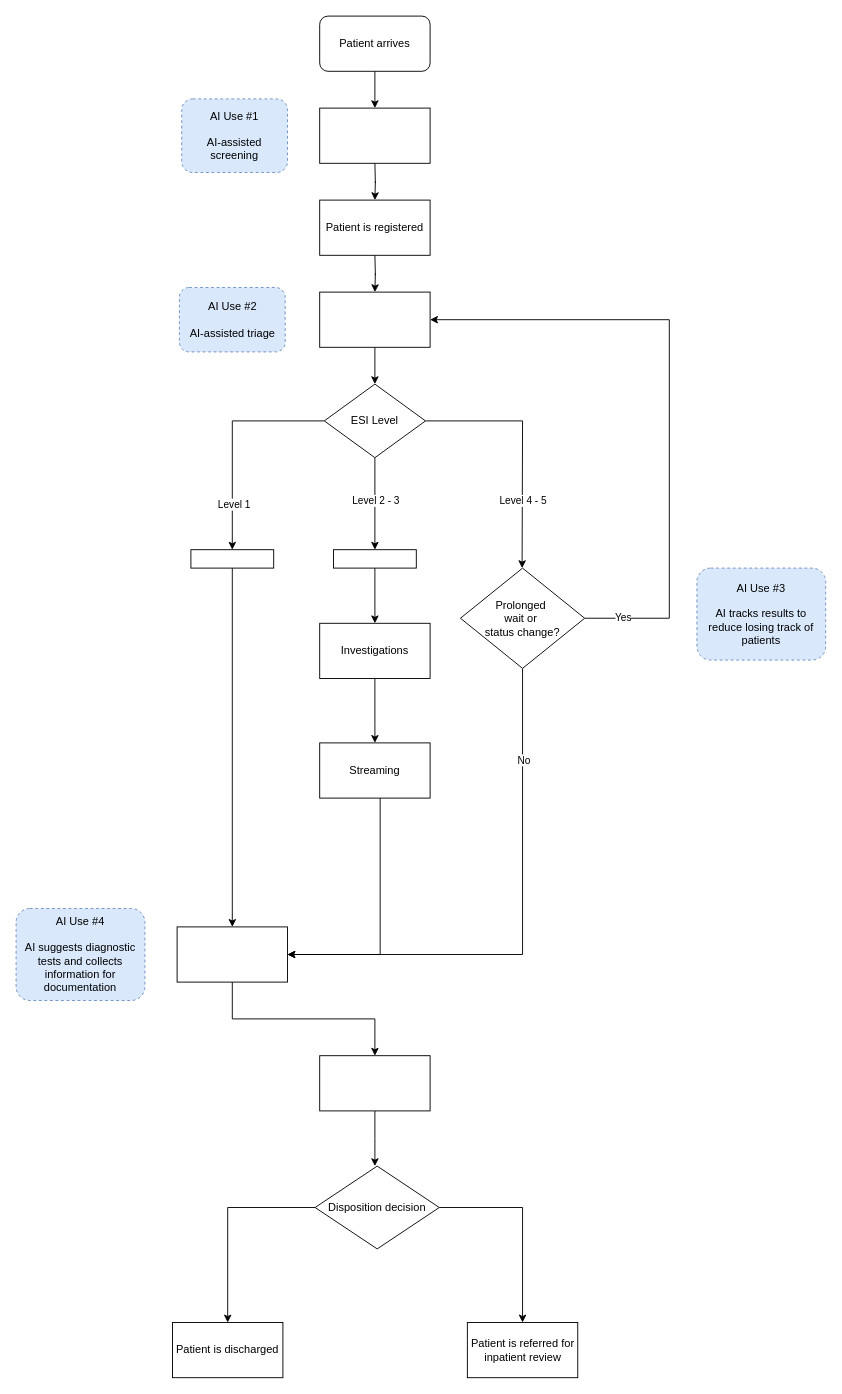
The diagram is 842 pixels wide and 1394 high, and some of its shapes have lost their labels. The centre of each missing label's shape, as x and y in pixels:
"Acute Care" belongs at [374,558].
"Clinical assessment and diagnostic testing" belongs at [232,954].
"Formal triage begins" belongs at [374,319].
"Nurse screens patient" belongs at [374,135].
"Resuscitation" belongs at [232,558].
"Treatment" belongs at [374,1083].
